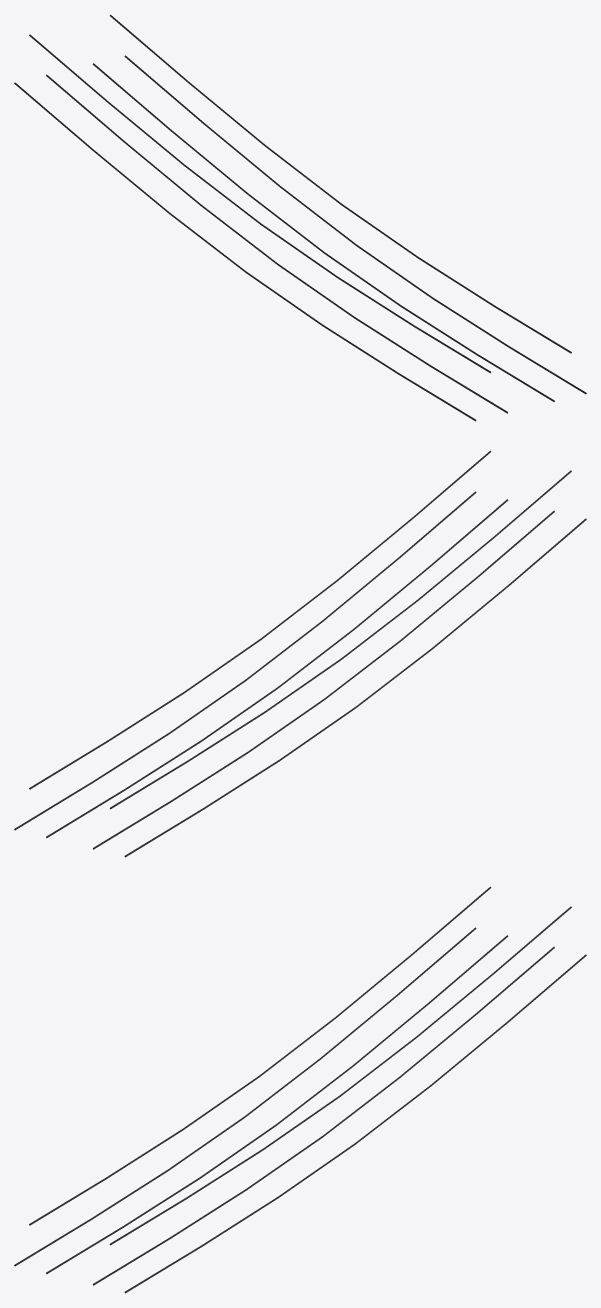
The model's file is SM_Props_Street_UtilityPole_Line_Preset.fbx.
The picture shows the model from 3 angles, top to bottom: view 1: azimuth 30°, elevation 25°; view 2: azimuth 150°, elevation 25°; view 3: azimuth 330°, elevation 25°; orthographic projection.
Visible parts, largest first — view 1: SM_Props_Street_UtilityPole_Line_Preset; view 2: SM_Props_Street_UtilityPole_Line_Preset; view 3: SM_Props_Street_UtilityPole_Line_Preset.
Part boxes in pixels (box(x1,y1,x2,y2)): SM_Props_Street_UtilityPole_Line_Preset: box(14, 14, 586, 421); SM_Props_Street_UtilityPole_Line_Preset: box(14, 450, 586, 857); SM_Props_Street_UtilityPole_Line_Preset: box(14, 886, 586, 1293).
Size of the model in its own units: 212 by 119 by 1504.
